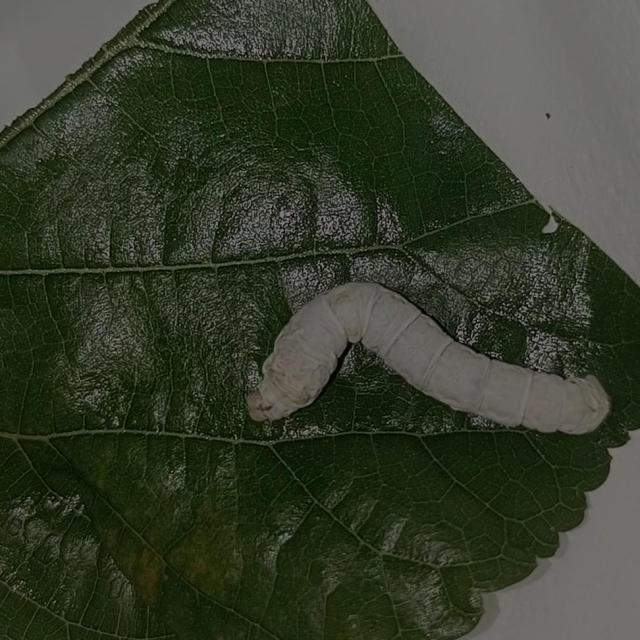Healthy: (236, 256, 625, 469)
